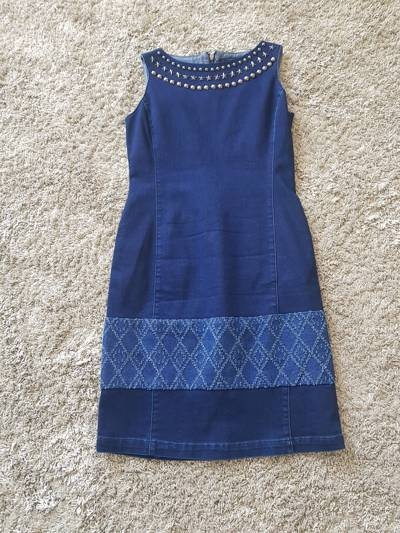Dress: (76, 26, 357, 462)
